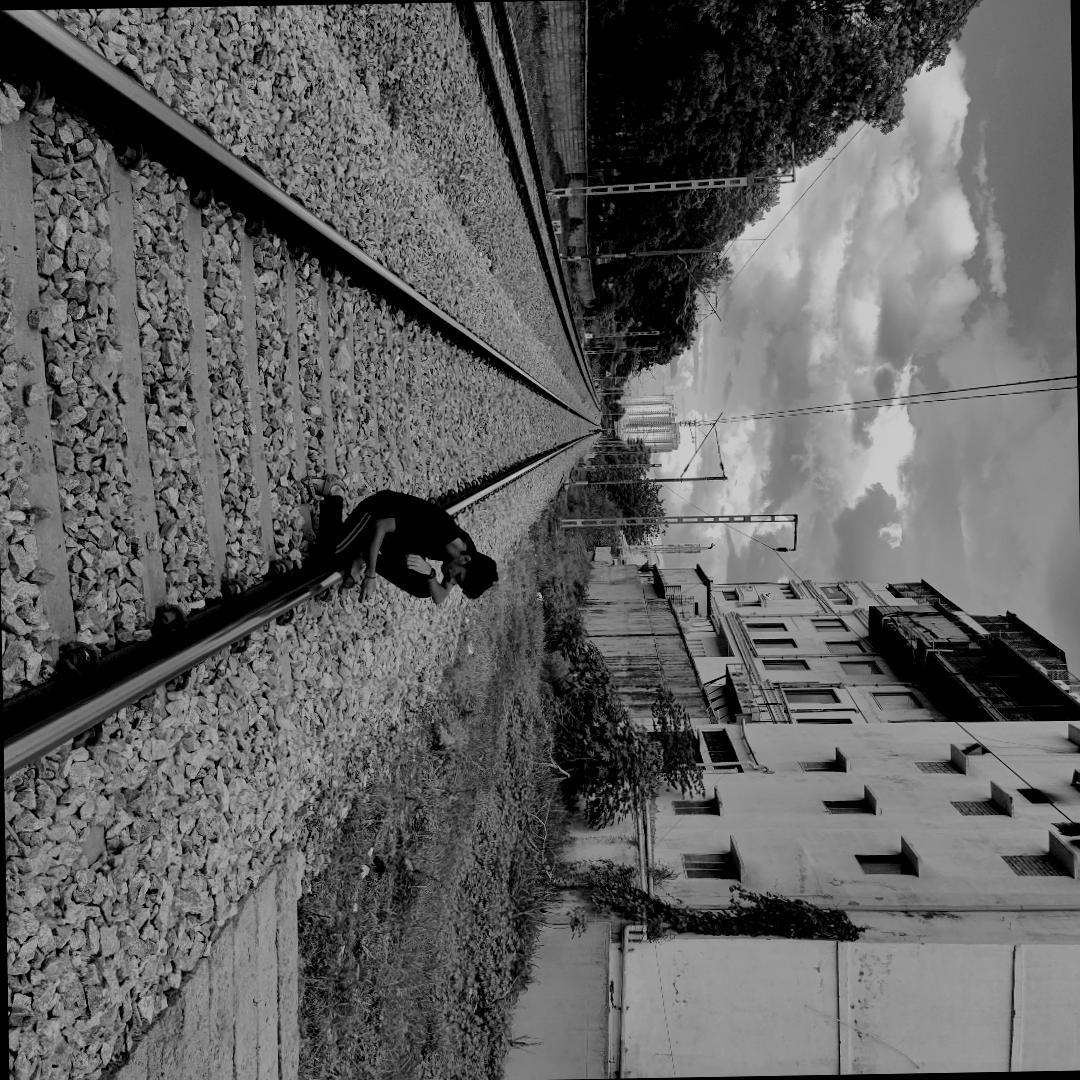sitting: (303, 469, 504, 607)
